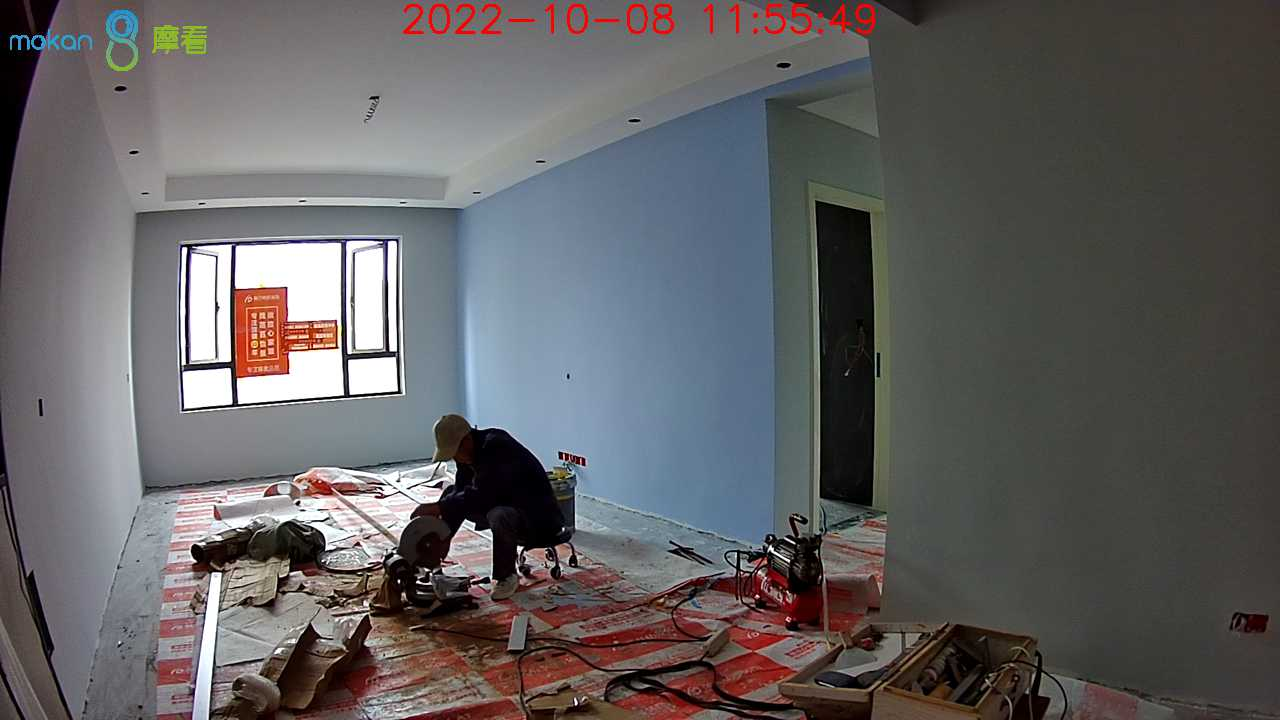people: (410, 413, 565, 602)
window: (178, 241, 409, 407)
